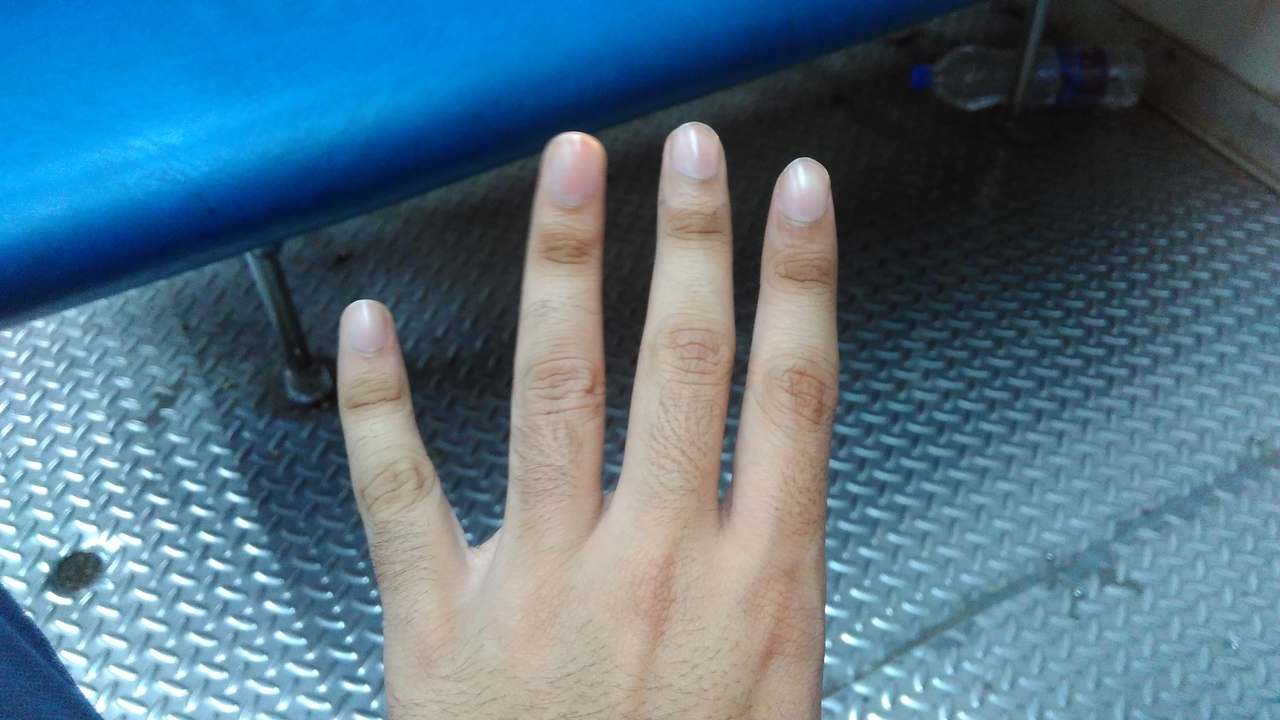fingertip: (528, 124, 608, 192), (658, 116, 732, 186), (770, 150, 838, 226), (334, 300, 400, 370)
